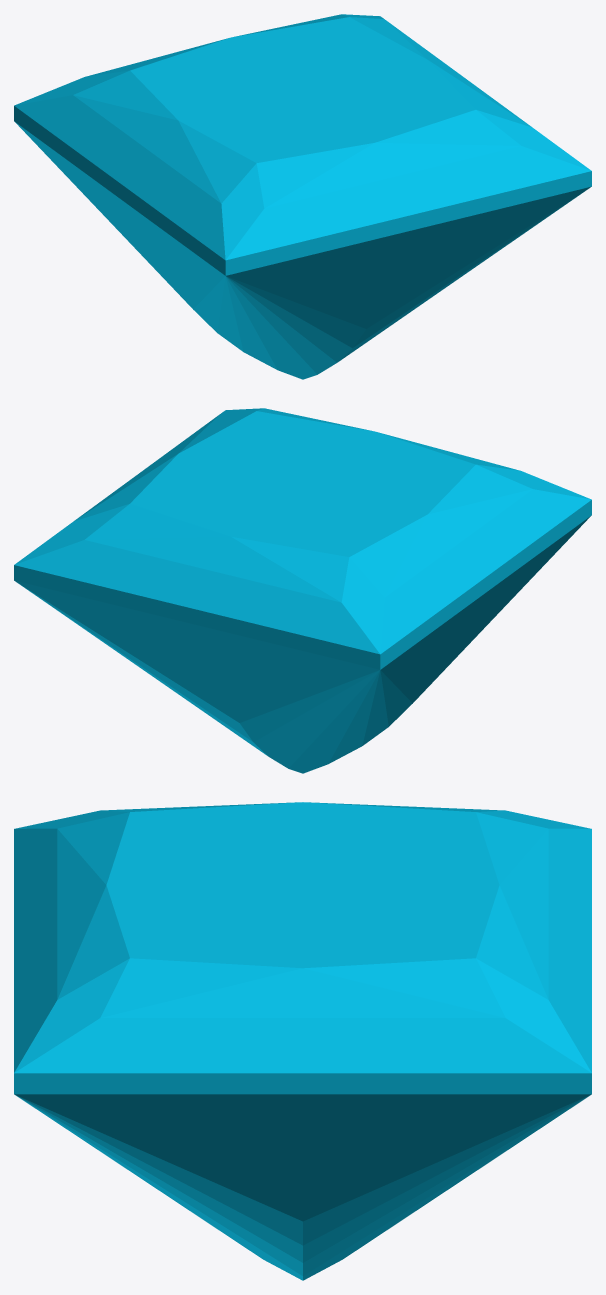
Rendered from Head_Single Halo_Princess_2.0ct_Diamond.glb.
3 views of the same model, one above another, from view 1: azimuth 30°, elevation 25°; view 2: azimuth 150°, elevation 25°; view 3: azimuth 270°, elevation 25° (orthographic). The views are drawn at different scales.
Size of the model in its own units: 0.00747 by 0.00564 by 0.00747.
